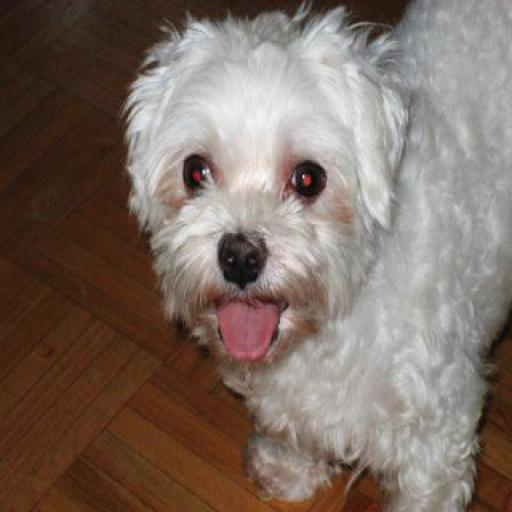dog_face: (131, 24, 368, 358)
